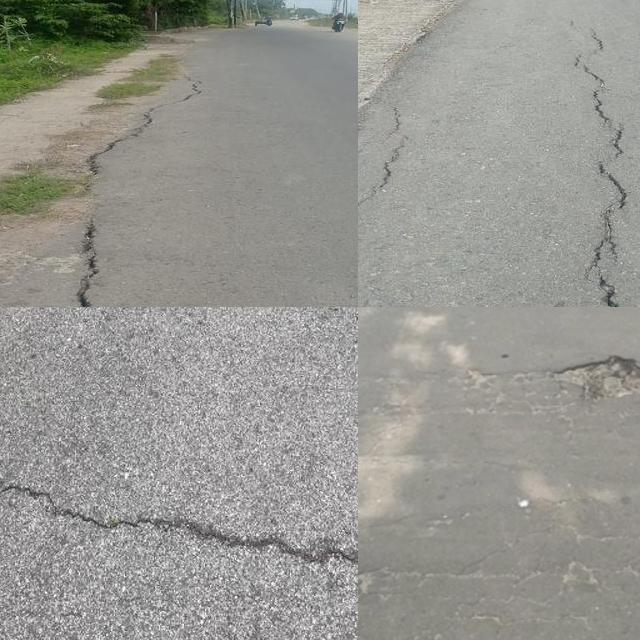Lubang: (547, 360, 640, 411)
Melintang: (0, 462, 358, 581)
Memanjang: (65, 80, 204, 307), (562, 12, 637, 307), (358, 99, 418, 232)
